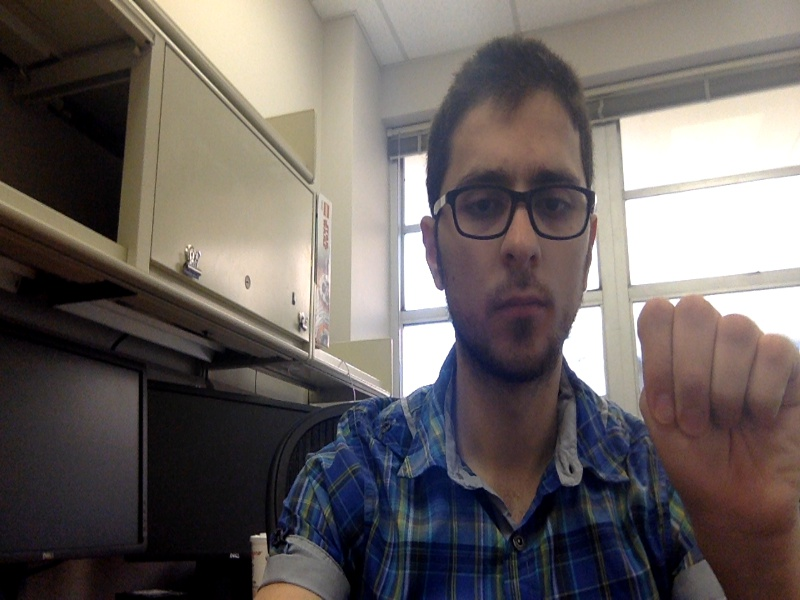0-hand: (638, 293, 800, 535)
